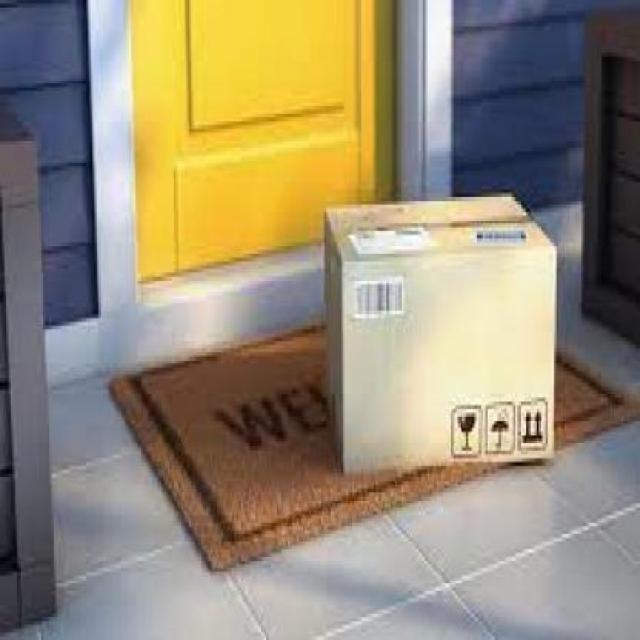box: (318, 183, 562, 470)
